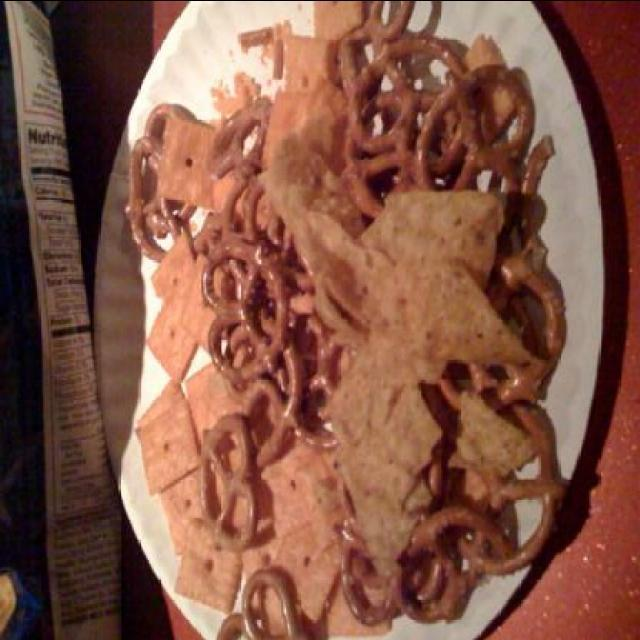Salatini packaged: (126, 1, 574, 628), (212, 564, 310, 640)
